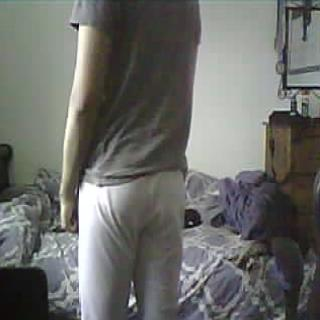White Sweatpants: (66, 161, 194, 320)
